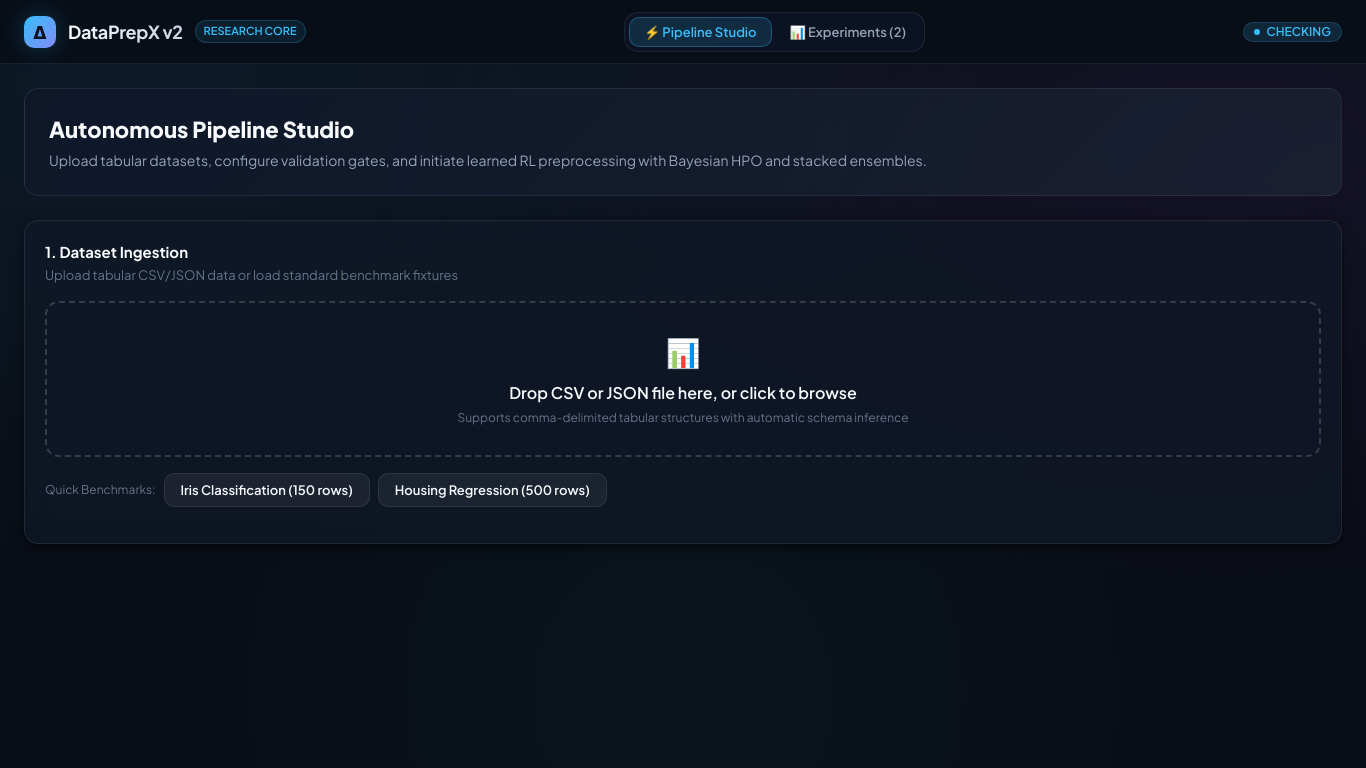
Test: App › navigates to Experiments page when clicked
What coordinates should you click on to do the following:
click the button "📊 Experiments (2)"
I would click on:
 (848, 32)
Its box is x1=776 y1=18 x2=920 y2=46.
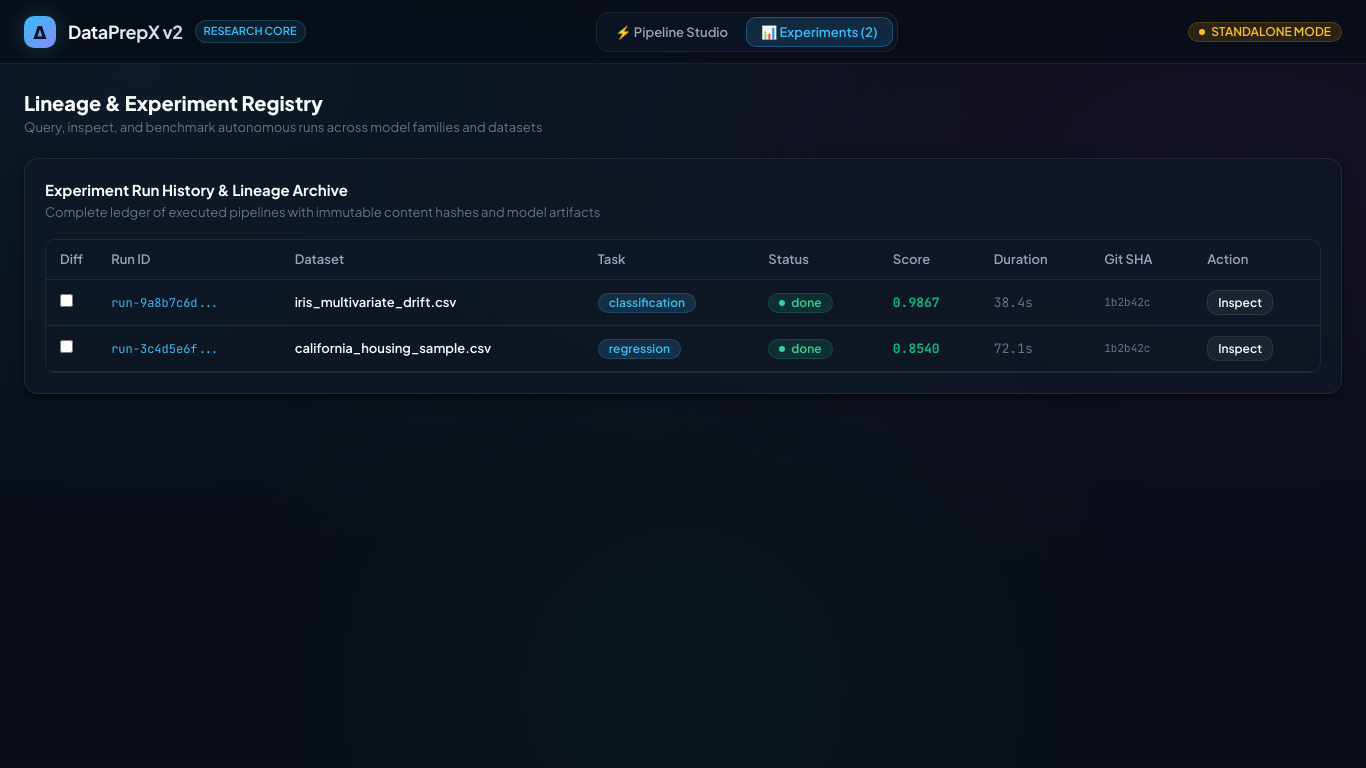
Expected: the heading "Lineage & Experiment Registry" is shown, x1=24 y1=90 x2=323 y2=115
Expected: the text "iris_multivariate_drift.csv" is shown, x1=281 y1=280 x2=584 y2=326
